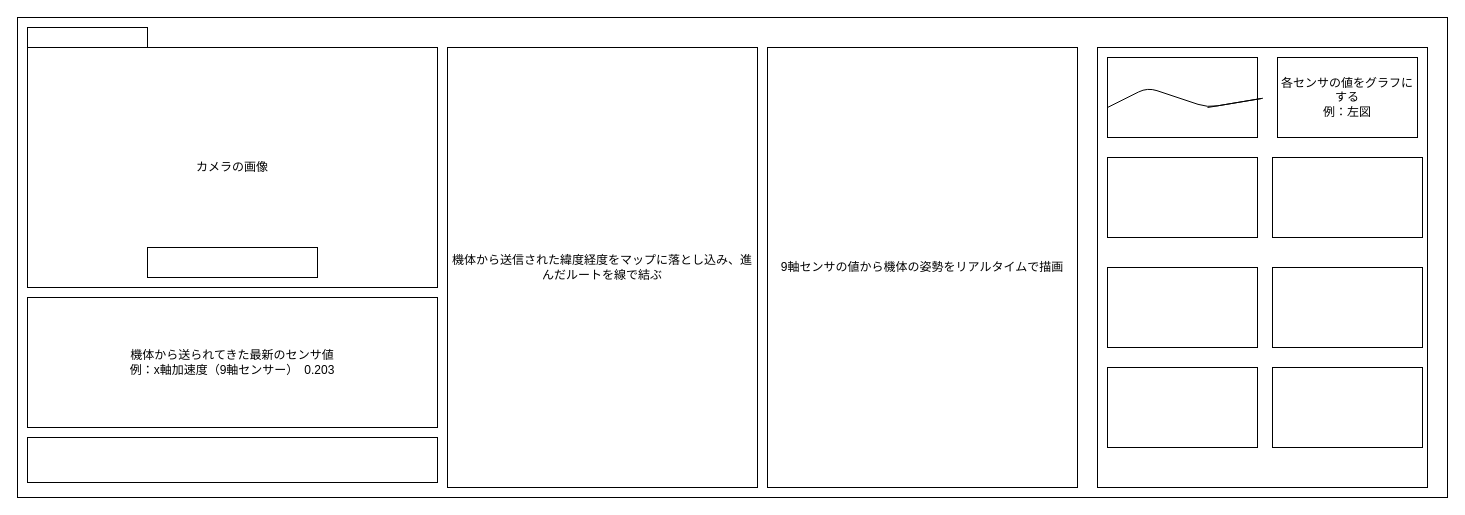
The diagram is 1465 pixels wide and 515 high, and some of its shapes have lost their labels. The shapes that lost their labels are listed below. From the top down, each one's centre as x and y in pixels, then its label:
(87,37): 撮影日時
(232,262): ◀ 画像の切り替えボタン ▶
(232,459): 機体に送信するコマンド入力ボックス
